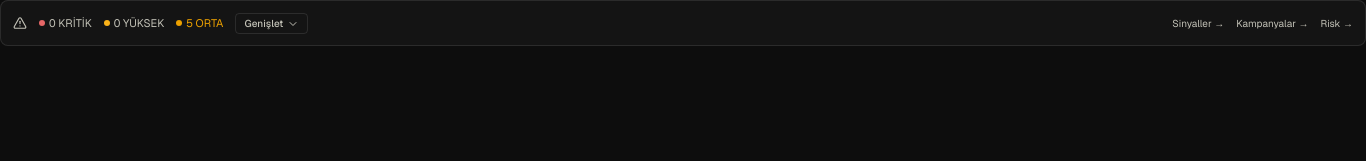
Test: AlertCenter › caps the open list at three rows but counts them all
Step 1. Click the button "Genişlet" → (272, 23), box x1=236 y1=12 x2=308 y2=34
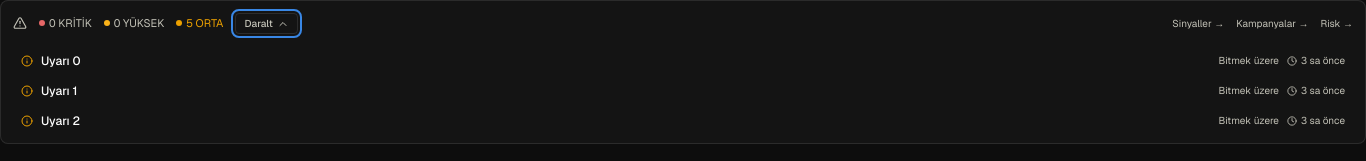
Expected: the text "5 ORTA" is shown, x1=176 y1=15 x2=223 y2=31
Expected: the text "Uyarı 0" is shown, x1=41 y1=53 x2=81 y2=69
